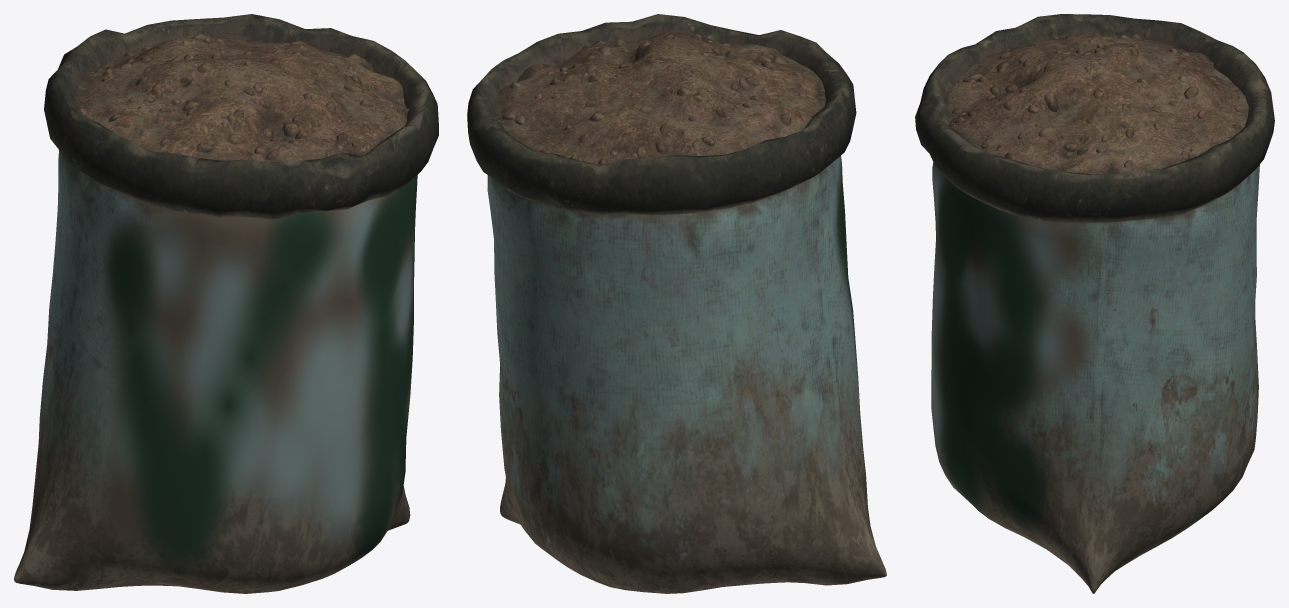
Rendered from Compost.glb.
3 renders of one model, left to right at view 1: azimuth 30°, elevation 25°; view 2: azimuth 150°, elevation 25°; view 3: azimuth 270°, elevation 25°, orthographic. The views are drawn at different scales.
Visible parts, largest first — view 1: compost_bag_02; view 2: compost_bag_02; view 3: compost_bag_02.
Boxes of the visible parts, bbox=[...] form: compost_bag_02: bbox=[14, 14, 438, 593]; compost_bag_02: bbox=[467, 14, 886, 593]; compost_bag_02: bbox=[915, 14, 1274, 593].
Bounding box in the file's own units: 0.5442 × 0.6703 × 0.4705.
Materials: 1 (1 with a texture image).
